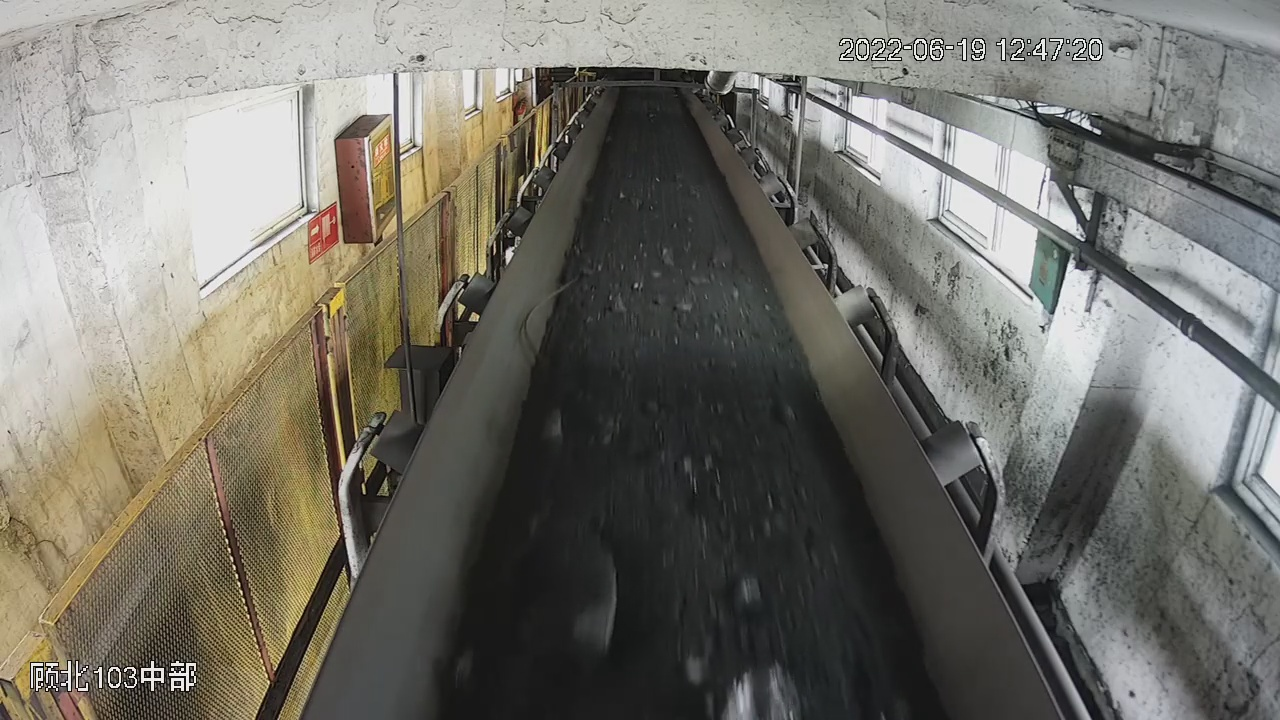gangue: (449, 527, 619, 684), (675, 602, 800, 720), (513, 405, 560, 466)
